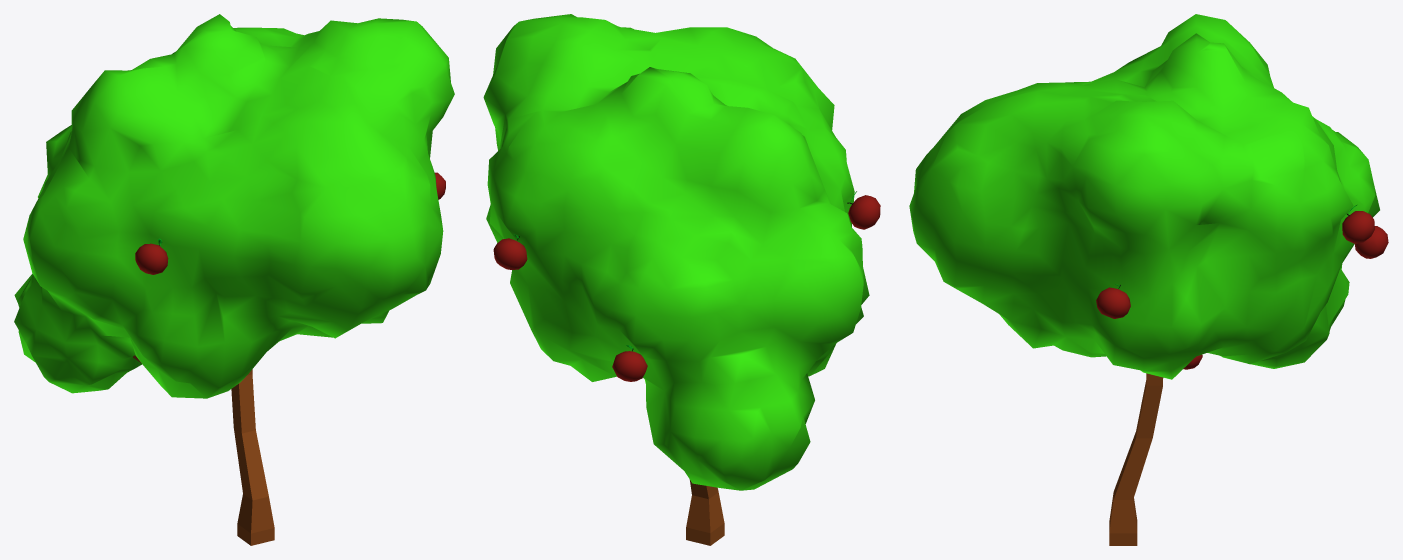
File: SM_AppleTree_001_LOD3.fbx
3 views of the same model, side by side, from view 1: azimuth 30°, elevation 25°; view 2: azimuth 150°, elevation 25°; view 3: azimuth 270°, elevation 25° (orthographic). The views are drawn at different scales.
Visible parts, largest first — view 1: AppleTree; view 2: AppleTree; view 3: AppleTree.
Boxes of the visible parts, bbox=[...] form: AppleTree: bbox=[14, 14, 454, 545]; AppleTree: bbox=[483, 14, 880, 545]; AppleTree: bbox=[909, 14, 1388, 545].
Size of the model in its own units: 288 by 345 by 301.
